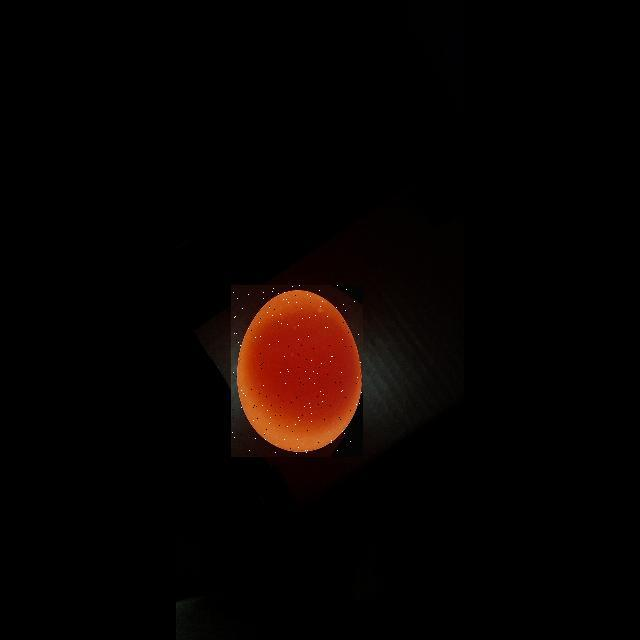A - Good: (231, 285, 363, 457)
